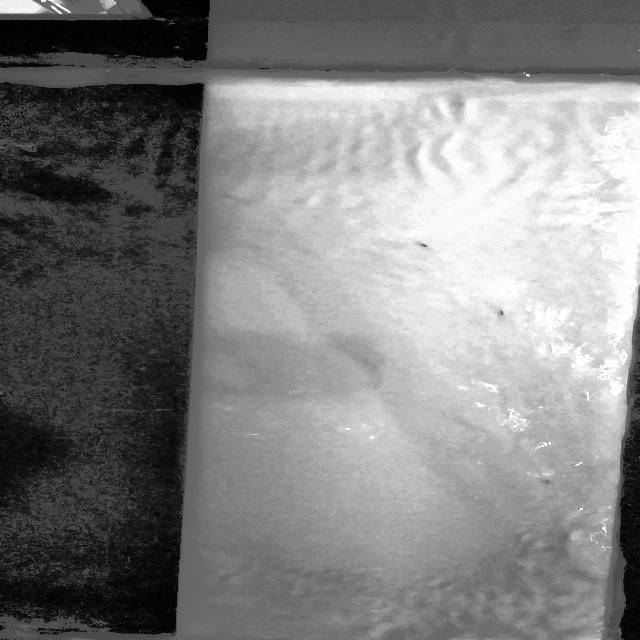shrimp: (410, 238, 450, 255), (492, 299, 511, 320)
